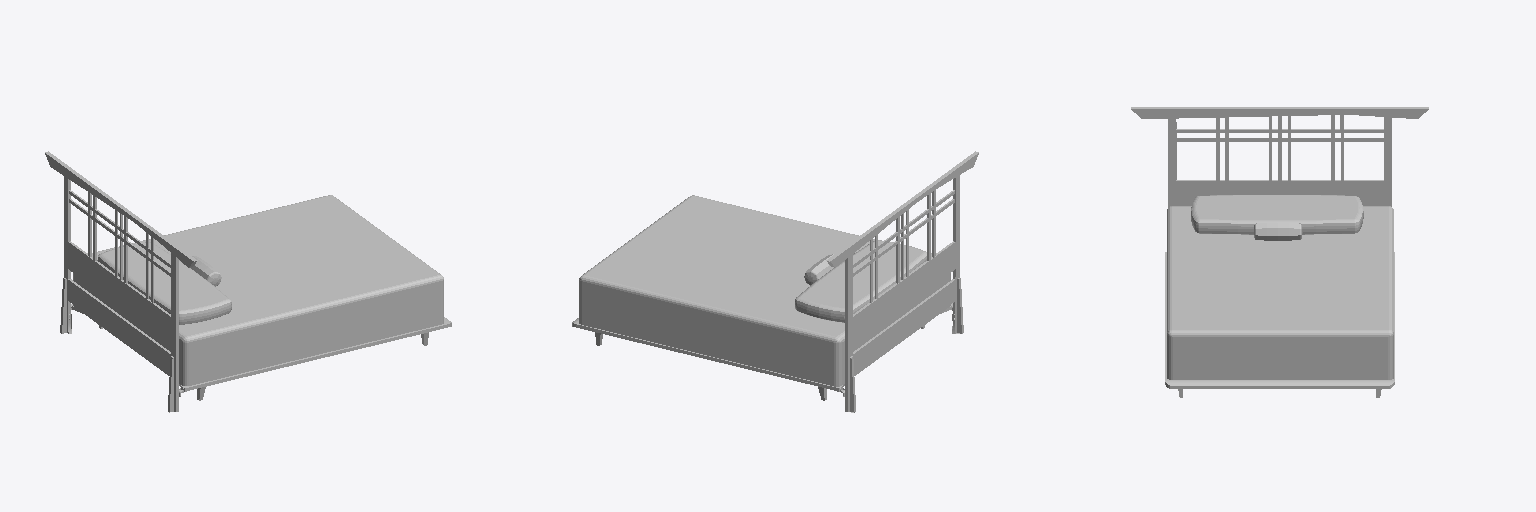
The model's file is bed.obj.
3 renders of one model, left to right at view 1: azimuth 30°, elevation 25°; view 2: azimuth 150°, elevation 25°; view 3: azimuth 270°, elevation 25°, orthographic.
Parts seen in each view (by area): view 1: Mesh1 Group1 Model, Mesh4 Group5 Group4 Model, Mesh2 Group2 Model, Mesh5 Group7 Group6 Group4 Model; view 2: Mesh1 Group1 Model, Mesh4 Group5 Group4 Model, Mesh2 Group2 Model, Mesh5 Group7 Group6 Group4 Model; view 3: Mesh1 Group1 Model, Mesh4 Group5 Group4 Model, Mesh2 Group2 Model, Mesh5 Group7 Group6 Group4 Model, Mesh3 Group3 Model.
Part boxes in pixels (left/top/right/bottom): Mesh1 Group1 Model: left=73, top=195, right=443, bottom=385; Mesh4 Group5 Group4 Model: left=45, top=151, right=197, bottom=412; Mesh2 Group2 Model: left=97, top=242, right=231, bottom=324; Mesh5 Group7 Group6 Group4 Model: left=71, top=304, right=451, bottom=400; Mesh1 Group1 Model: left=579, top=195, right=950, bottom=386; Mesh4 Group5 Group4 Model: left=826, top=151, right=978, bottom=412; Mesh2 Group2 Model: left=795, top=240, right=926, bottom=322; Mesh5 Group7 Group6 Group4 Model: left=572, top=303, right=952, bottom=400; Mesh1 Group1 Model: left=1167, top=206, right=1393, bottom=379; Mesh4 Group5 Group4 Model: left=1131, top=107, right=1428, bottom=207; Mesh2 Group2 Model: left=1191, top=195, right=1363, bottom=234; Mesh5 Group7 Group6 Group4 Model: left=1165, top=252, right=1394, bottom=397; Mesh3 Group3 Model: left=1254, top=223, right=1302, bottom=240.
Bounding box in the file's own units: 86.25 × 48 × 79.